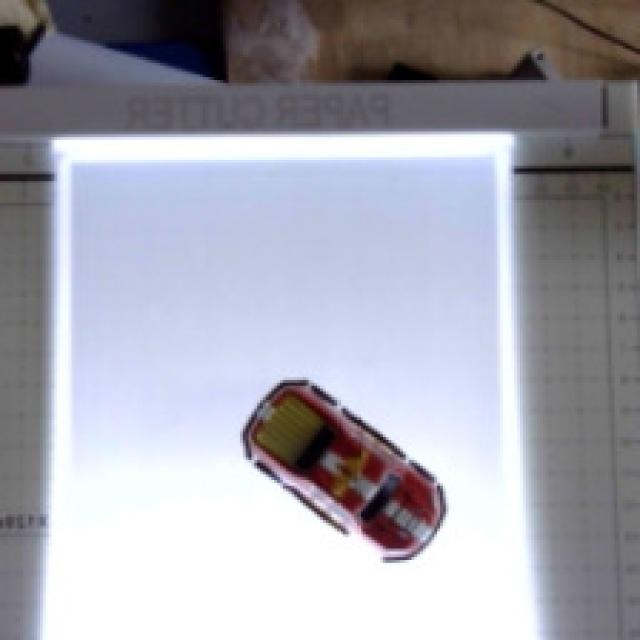Red Car: (205, 330, 470, 598)
